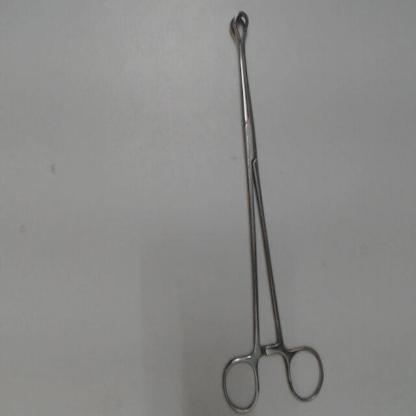8 Babcock Tissue Forceps: (218, 6, 327, 414)
